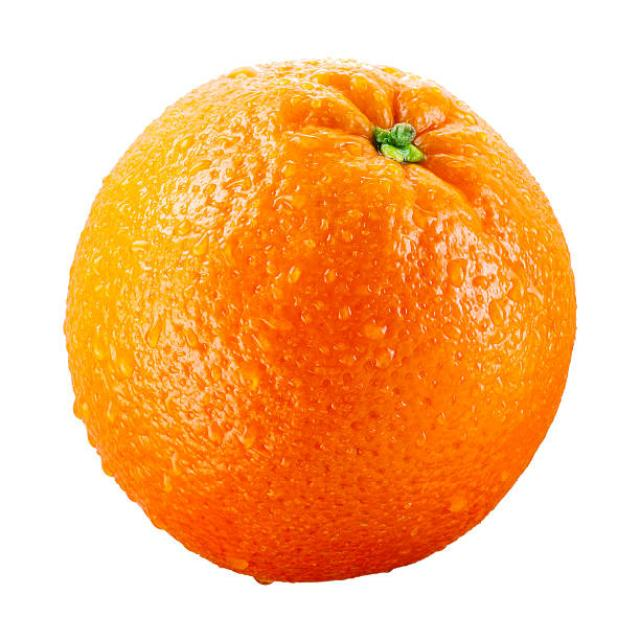Ripe: (61, 58, 580, 589)
